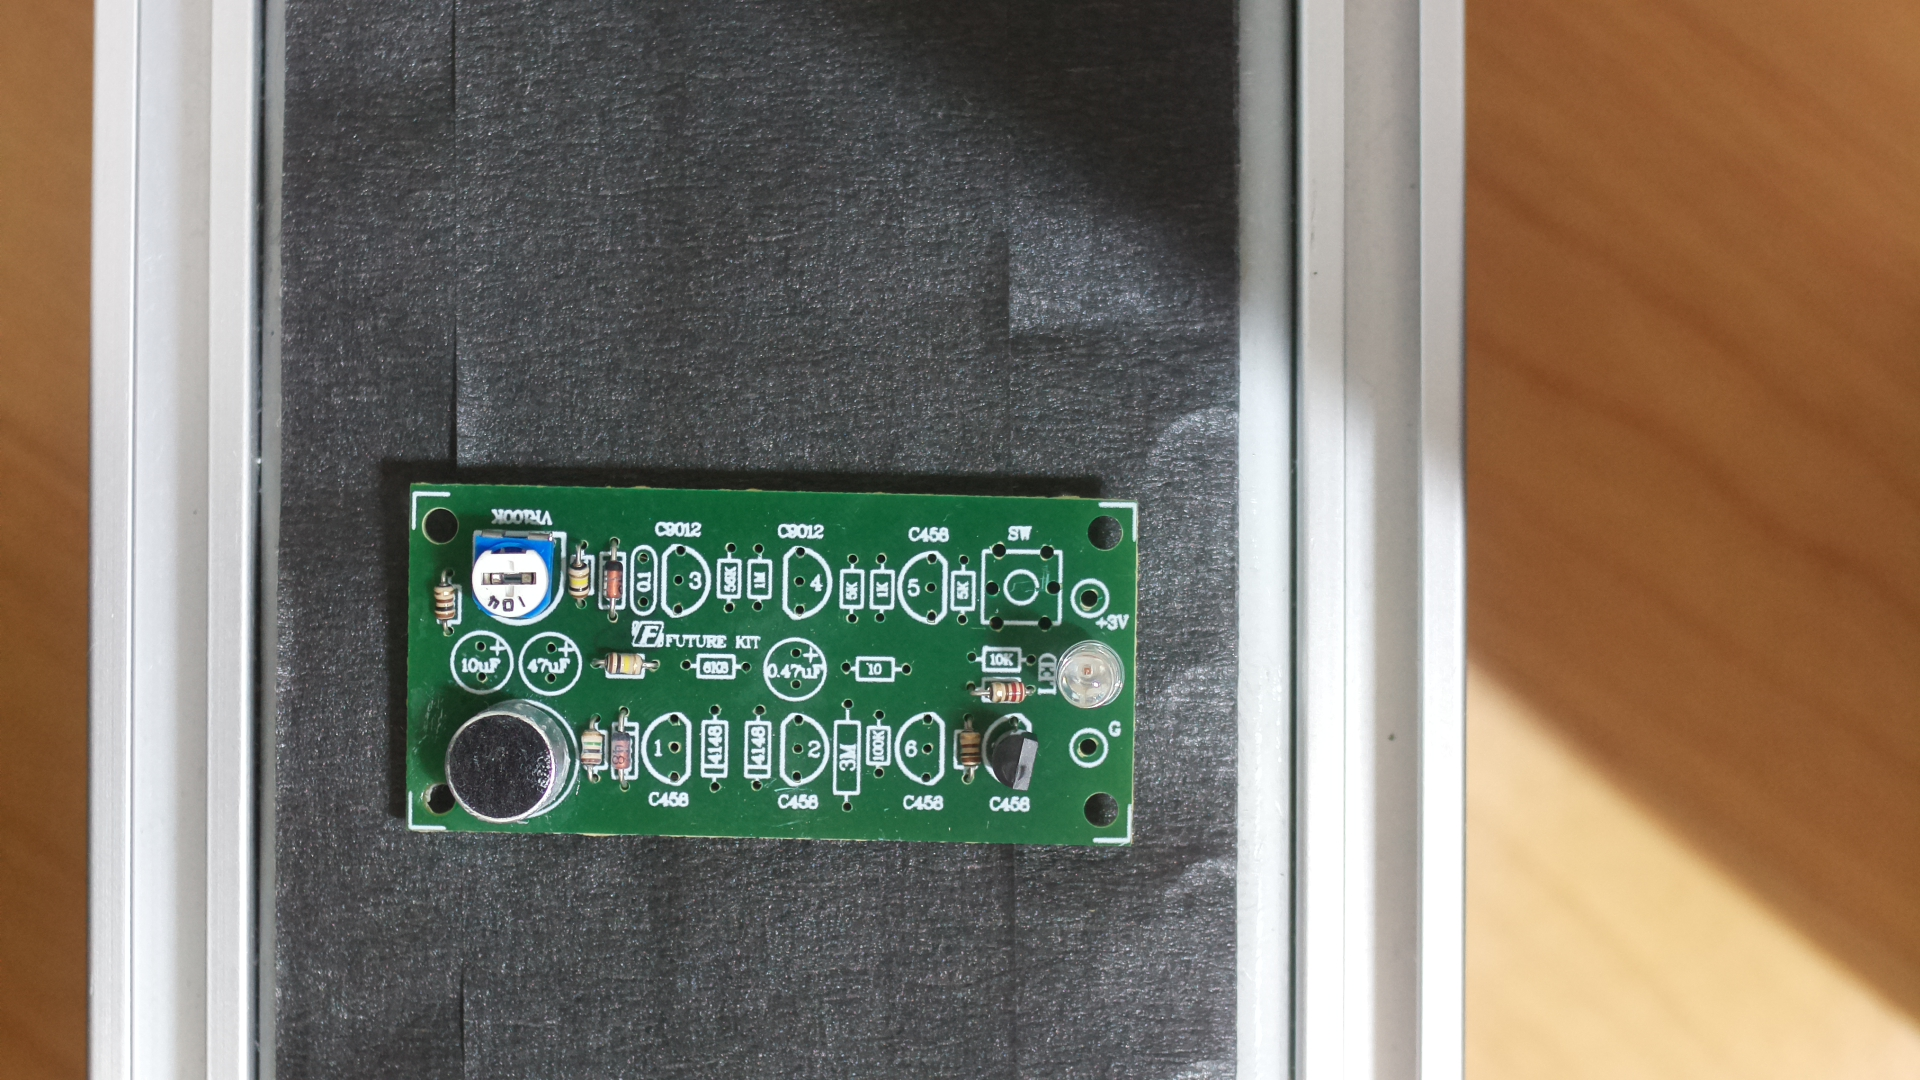A_Missing_part: (392, 462, 1149, 861)
